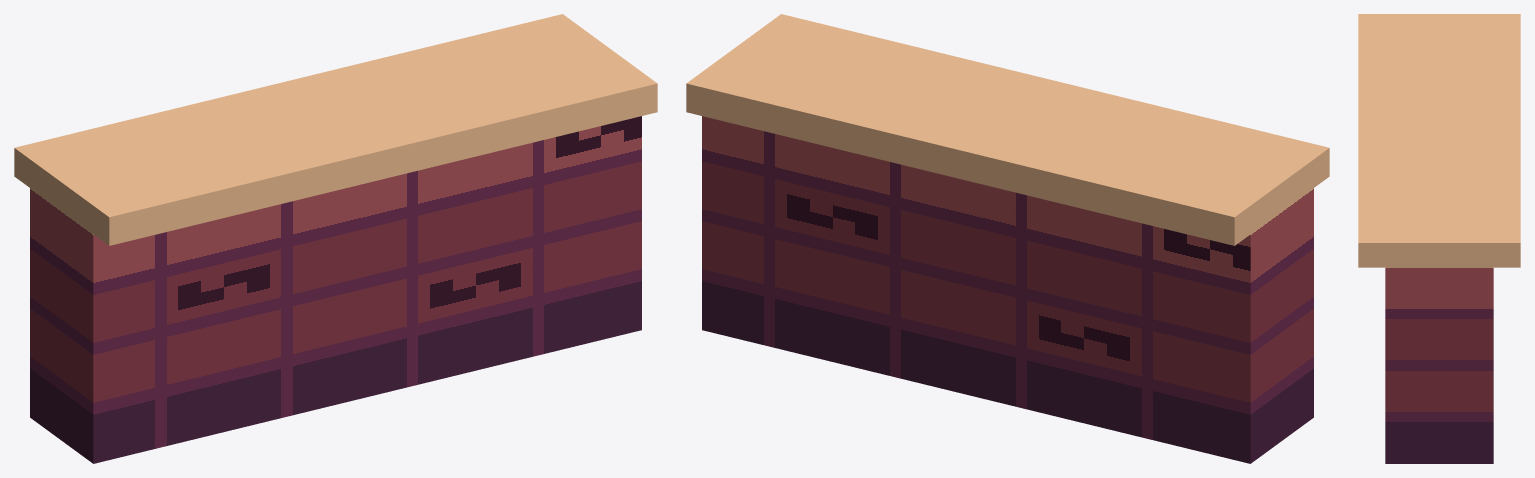
File: Fence.fbx
The picture shows the model from 3 angles, left to right: view 1: azimuth 30°, elevation 25°; view 2: azimuth 150°, elevation 25°; view 3: azimuth 270°, elevation 25°; orthographic projection. The views are drawn at different scales.
Visible parts, largest first — view 1: Cube; view 2: Cube; view 3: Cube.
Boxes of the visible parts, box(x1,y1,x2,y2) form: Cube: box(14, 14, 657, 463); Cube: box(686, 14, 1329, 463); Cube: box(1358, 14, 1520, 463).
Size of the model in its own units: 2 by 0.9 by 0.6.
Materials: 1 (1 with a texture image).
